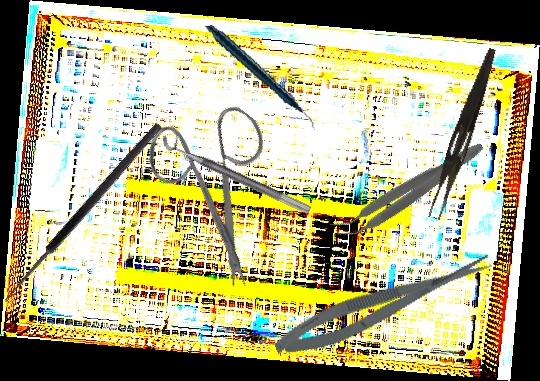Dressing Forceps: (427, 44, 499, 223)
Fixation Ring: (158, 124, 318, 216)
Handpiece: (204, 9, 316, 145)
Hook Surgical: (0, 120, 172, 313)
Iris Scissors: (110, 77, 332, 294)
Micro Scissor: (268, 246, 499, 366)
Tissue Forceps: (329, 131, 489, 248)
